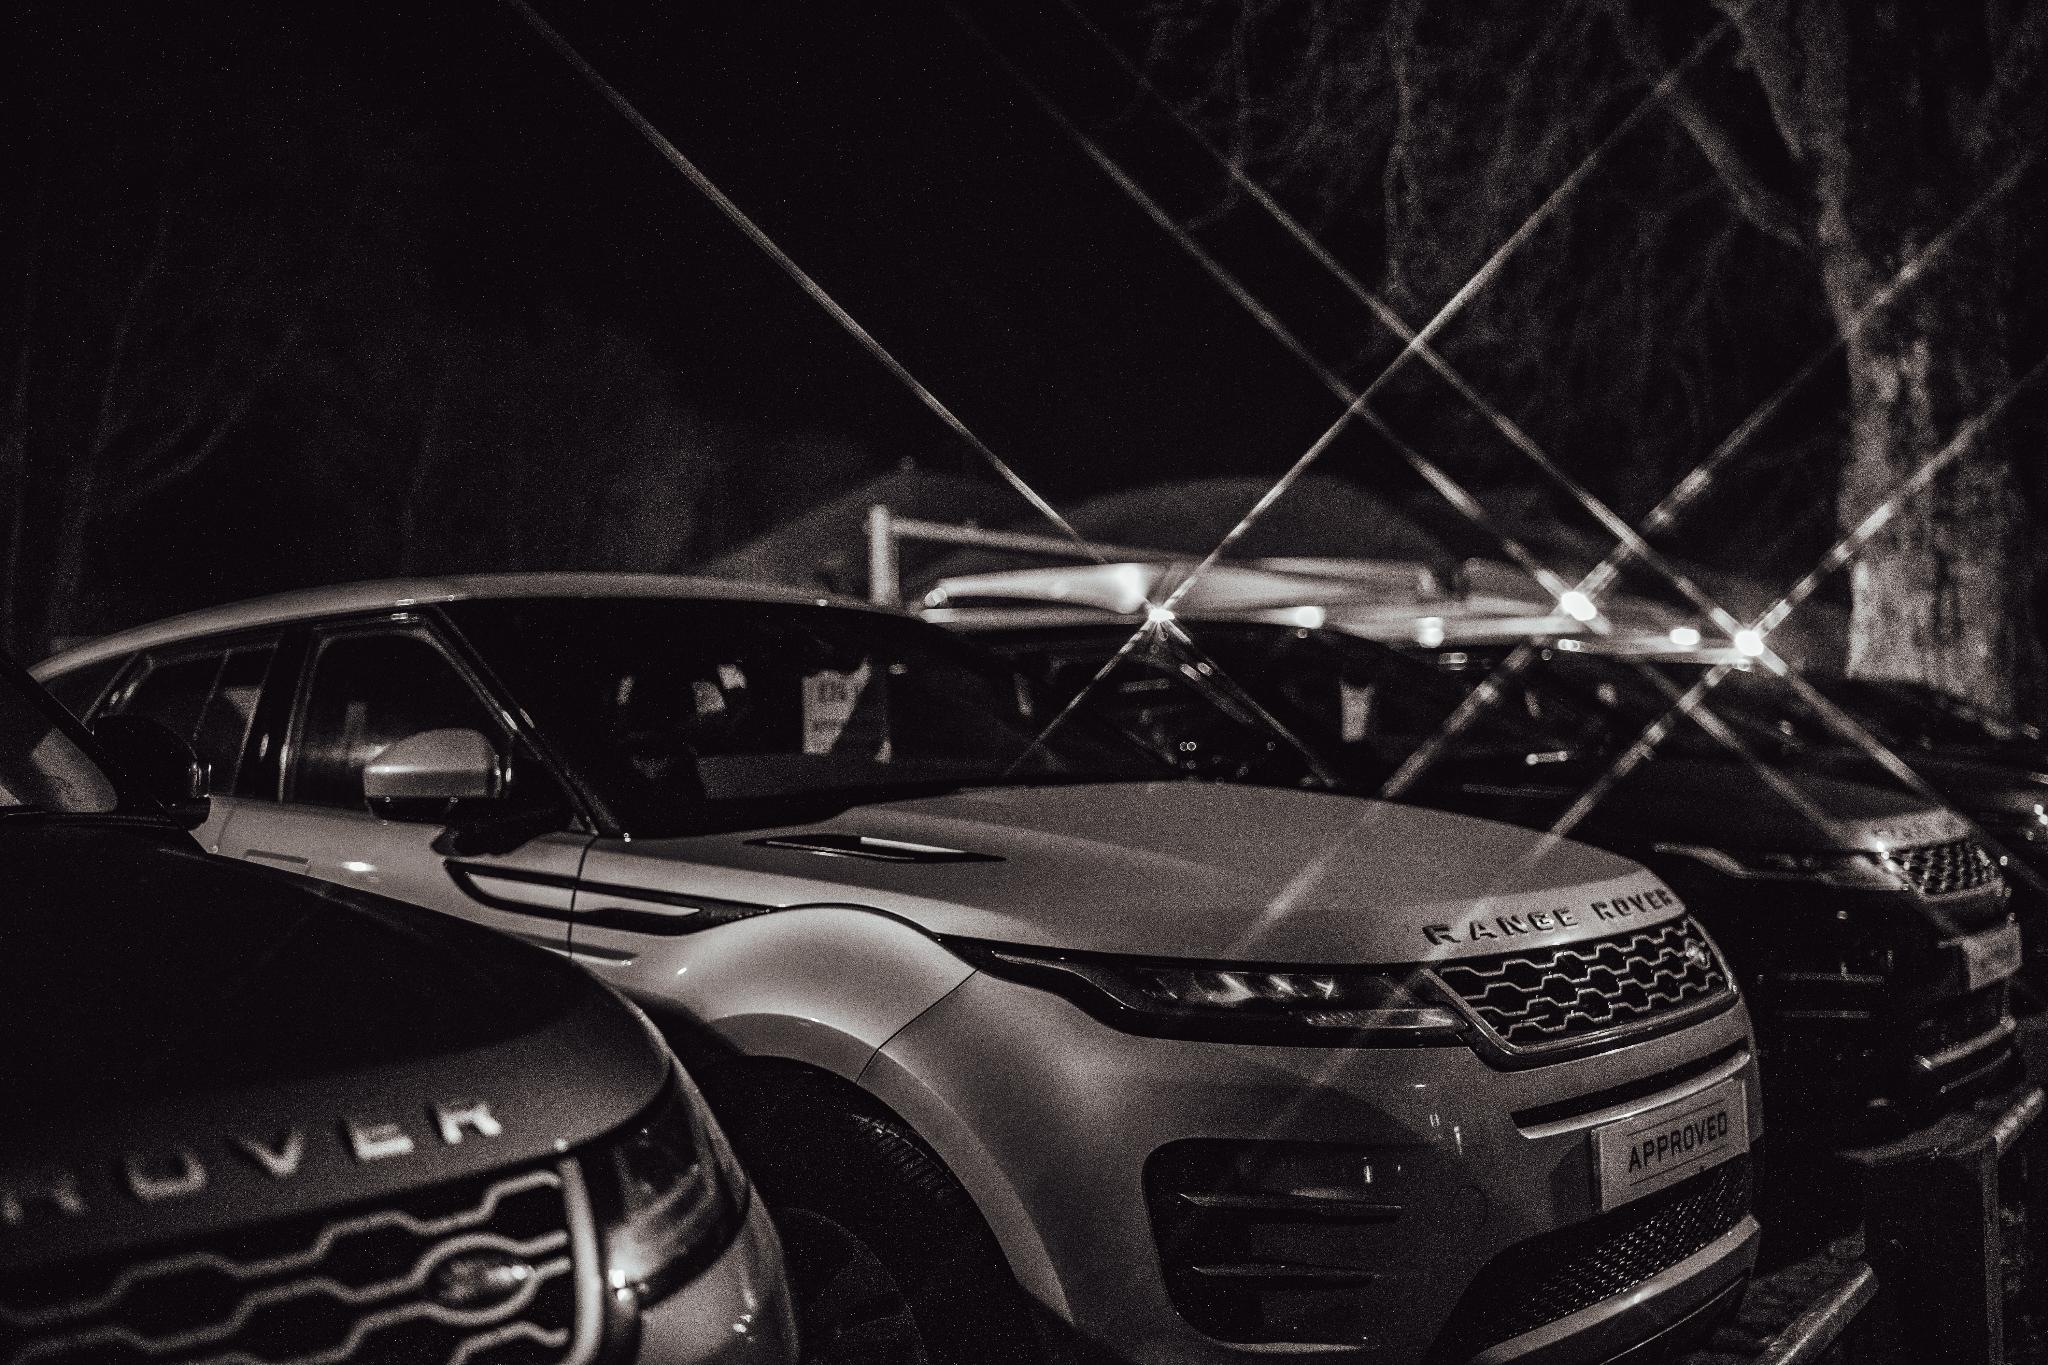range rover: (0, 1059, 539, 1274), (1415, 873, 1686, 960)
